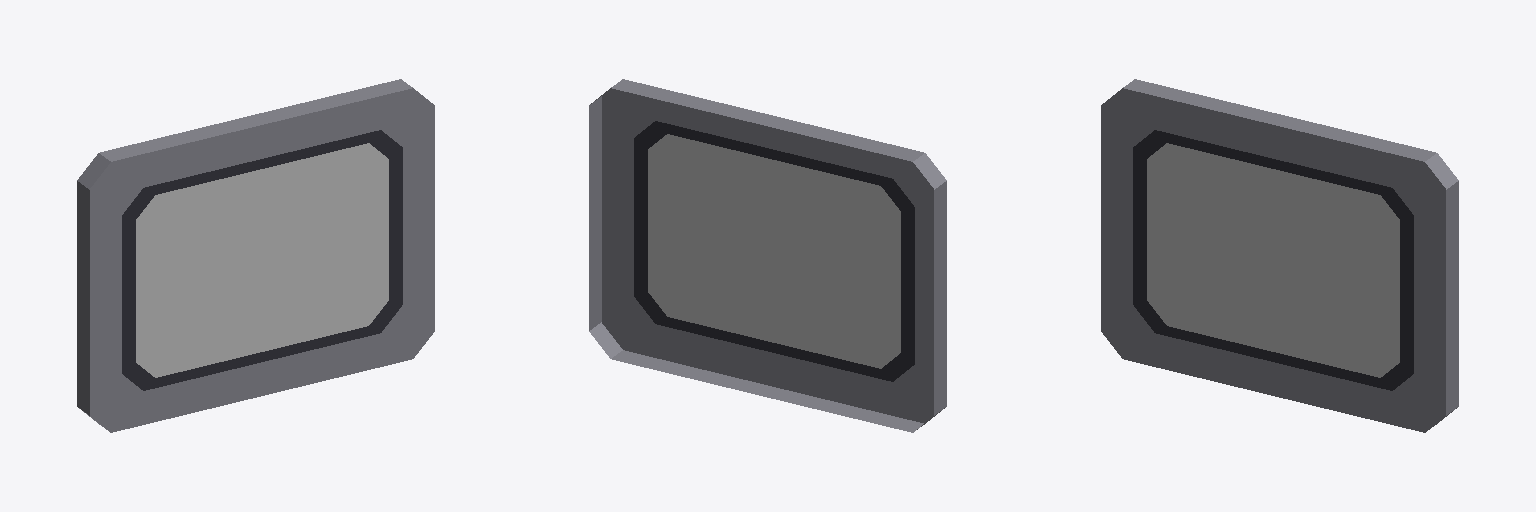
3 views of the same model, side by side, from view 1: azimuth 30°, elevation 25°; view 2: azimuth 150°, elevation 25°; view 3: azimuth 330°, elevation 25° (orthographic).
Parts seen in each view (by area): view 1: polygon1, polygon0; view 2: polygon1, polygon0; view 3: polygon1, polygon0.
Part boxes in pixels (x1,y1,x2,y2): polygon1: (77,79,434,432); polygon0: (136,143,388,377); polygon1: (589,79,946,432); polygon0: (648,134,900,368); polygon1: (1101,79,1458,432); polygon0: (1147,143,1399,377).
Bounding box in the file's own units: 32 × 24 × 2.
Materials: 2 (1 with a texture image).